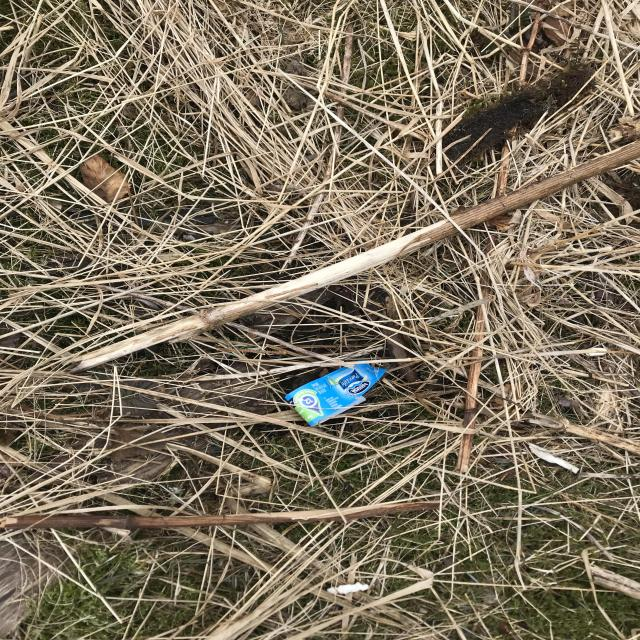litter: (484, 190, 570, 267)
